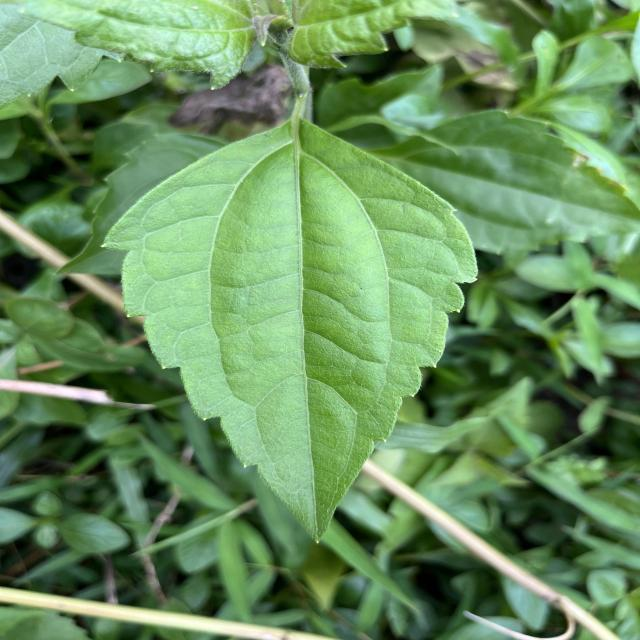Chromolaena odorata: (95, 108, 485, 551)
